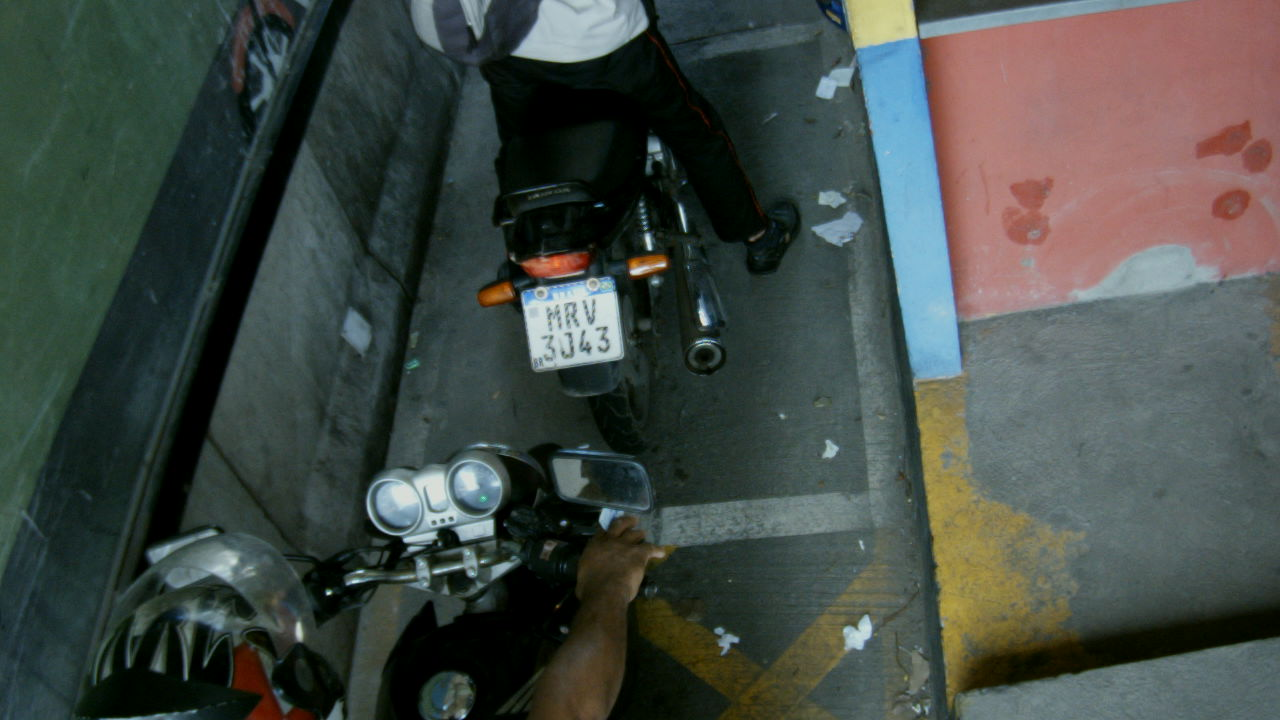placa: (518, 274, 628, 374)
